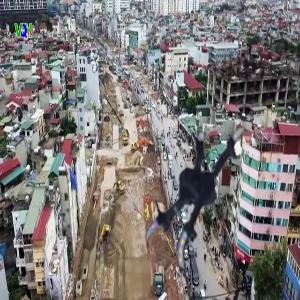drone: (133, 124, 286, 277)
